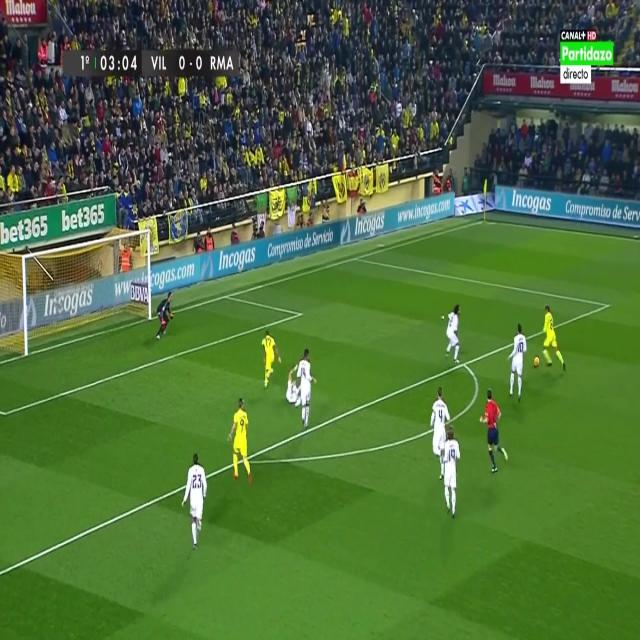Ball: (534, 355, 542, 372)
Goalkeeper: (154, 288, 176, 342)
Player: (182, 450, 208, 550), (227, 396, 253, 490), (542, 303, 569, 377), (442, 424, 462, 520), (428, 386, 451, 467), (296, 346, 318, 430), (508, 320, 528, 404), (261, 326, 282, 395), (444, 299, 464, 369), (284, 363, 301, 411)
Referee: (477, 382, 511, 477)
